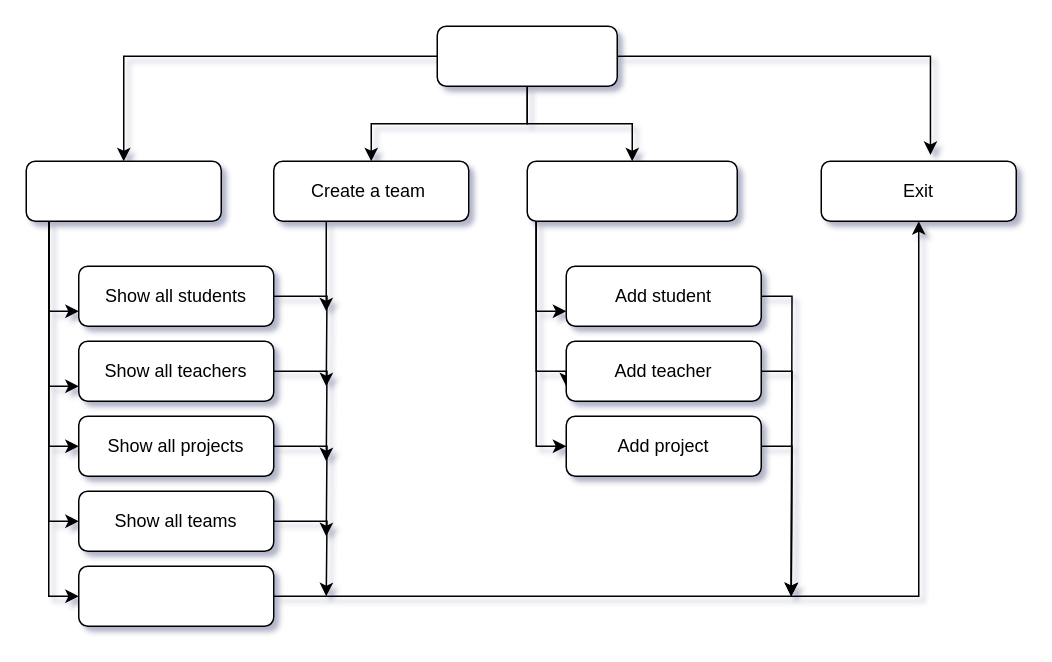
The diagram is 1052 pixels wide and 662 high, and some of its shapes have lost their labels. The shapes that lost their labels are listed below. From the top down, each one's box as (x1, y1, x2, y2) in pixels, then its label:
(436, 25, 617, 86): mainMenu
(25, 160, 221, 221): Show functions
(526, 160, 737, 221): Add functions
(77, 565, 274, 626): Show info about the school
